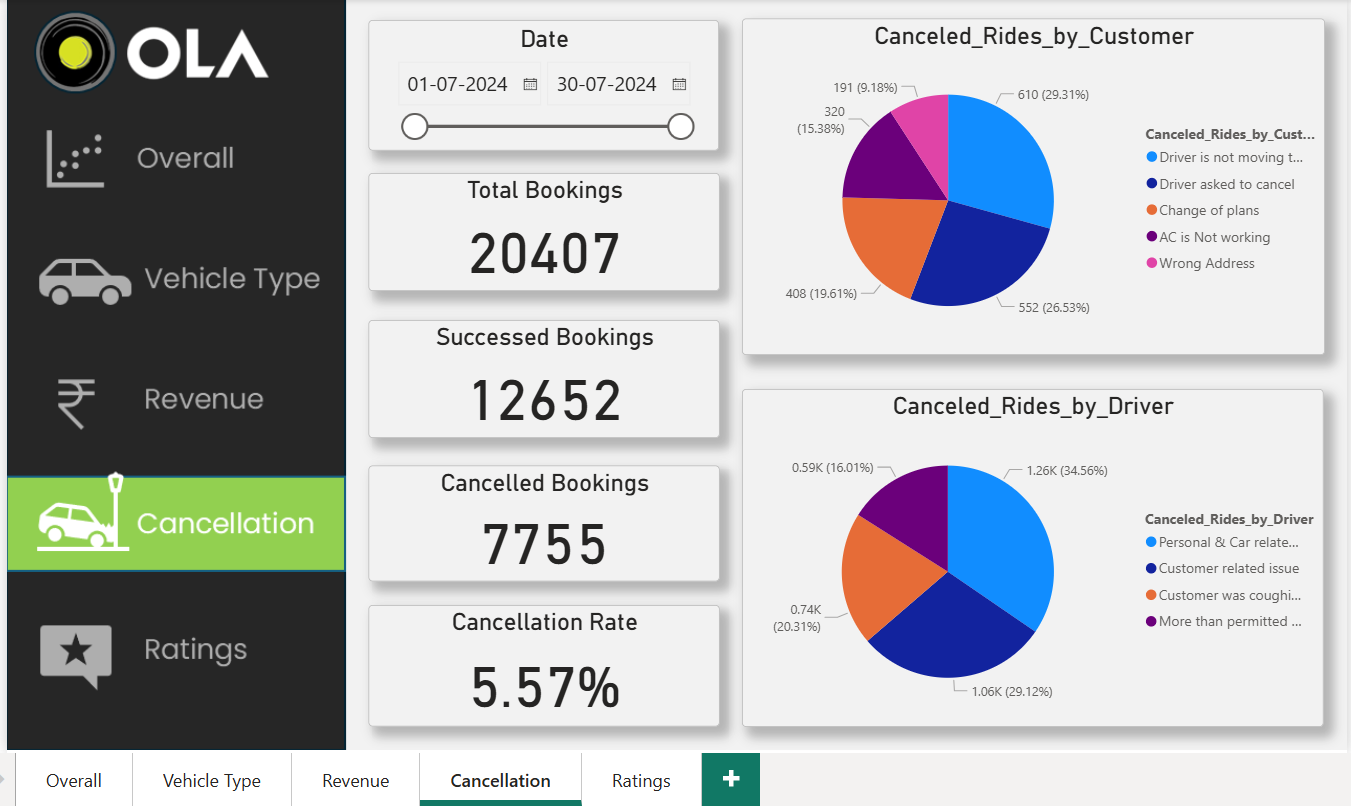

Layout of this report page (visuals, bound fields, positions):
{"tool":"powerbi","page":{"name":"Cancellation","canvas":[1280,720],"ordinal":3},"visuals":[{"type":"actionButton","box":[0,226,326,92],"z":0},{"type":"actionButton","box":[0,340,326,92],"z":1000},{"type":"actionButton","box":[0,578,326,90],"z":2000},{"type":"actionButton","box":[0,98,326,110],"z":3000},{"type":"pieChart","title":"Canceled_Rides_by_Customer","fields":{"Category":["July.Canceled_Rides_by_Customer"],"Y":["CountNonNull(July.Canceled_Rides_by_Customer)"]},"box":[701.5,19.1,556.7,321.3],"z":4000},{"type":"pieChart","title":"Canceled_Rides_by_Driver","fields":{"Category":["July.Canceled_Rides_by_Driver"],"Y":["CountNonNull(July.Canceled_Rides_by_Driver)"]},"box":[701.5,372.2,555.1,322.9],"z":5000},{"type":"slicer","title":"Date","fields":{"Values":["July.Date"]},"box":[344.7,19.5,334.9,124.6],"z":6000},{"type":"card","title":"Total Bookings","fields":{"Values":["CountNonNull(July.Booking_ID)"]},"box":[344.7,165.9,335.5,112.5],"z":7000},{"type":"card","title":"Successed Bookings","fields":{"Values":["CountNonNull(July.Booking_ID)"]},"box":[344.7,306,335.5,112.5],"z":8000},{"type":"card","title":"Cancelled Bookings","fields":{"Values":["CountNonNull(July.Booking_ID)"]},"box":[344.7,446.1,335.5,110.6],"z":9000},{"type":"card","title":"Cancellation Rate","fields":{"Values":["July.CanceledPercentage"]},"box":[344.7,578.9,335.5,116.1],"z":10000}]}

Visuals, with their boxes on the page's 1280x720 design canvas (x1, y1, x2, y2). These are canvas units, not pixel positions in the 1351x806 screenshot, which may show the page scaled, cropped or inside an application window:
actionButton: left=0, top=226, right=326, bottom=318
actionButton: left=0, top=340, right=326, bottom=432
actionButton: left=0, top=578, right=326, bottom=668
actionButton: left=0, top=98, right=326, bottom=208
"Canceled_Rides_by_Customer" pieChart: left=702, top=19, right=1258, bottom=340
"Canceled_Rides_by_Driver" pieChart: left=702, top=372, right=1257, bottom=695
"Date" slicer: left=345, top=20, right=680, bottom=144
"Total Bookings" card: left=345, top=166, right=680, bottom=278
"Successed Bookings" card: left=345, top=306, right=680, bottom=418
"Cancelled Bookings" card: left=345, top=446, right=680, bottom=557
"Cancellation Rate" card: left=345, top=579, right=680, bottom=695
